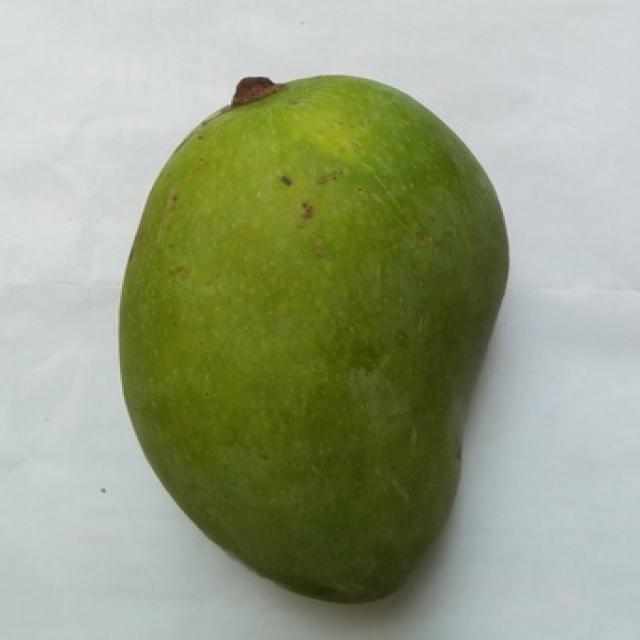Mango: (122, 76, 505, 601)
